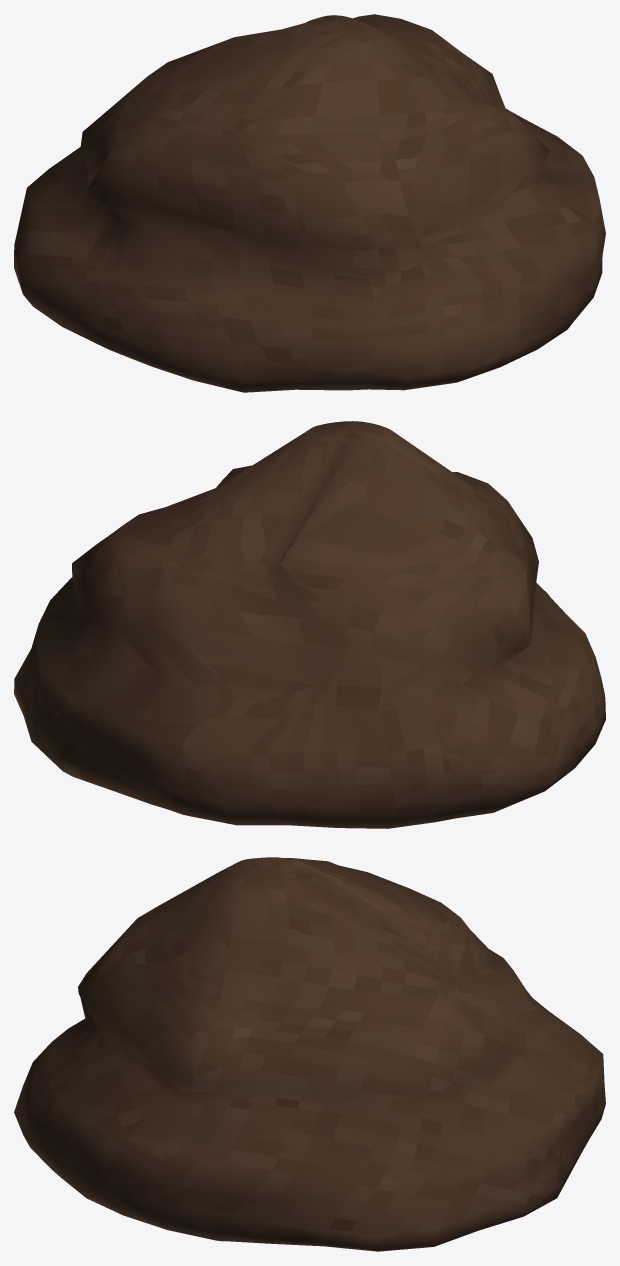
File: PoopPile.fbx
3 views of the same model, one above another, from view 1: azimuth 30°, elevation 25°; view 2: azimuth 150°, elevation 25°; view 3: azimuth 270°, elevation 25° (orthographic). The views are drawn at different scales.
Visible parts, largest first — view 1: Sphere; view 2: Sphere; view 3: Sphere.
Part boxes in pixels (left/top/right/bottom): Sphere: left=14, top=14, right=605, bottom=392; Sphere: left=14, top=421, right=605, bottom=828; Sphere: left=14, top=857, right=605, bottom=1251.
Bounding box in the file's own units: 1.82 × 0.9609 × 1.81.
